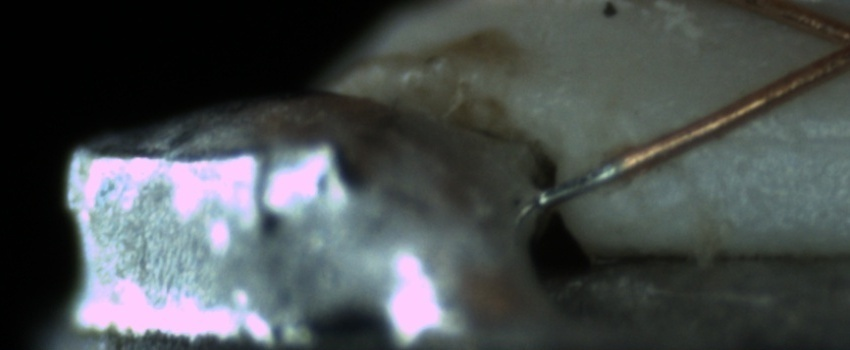CL: (803, 8, 850, 81)
DL: (708, 105, 850, 174)
TS: (539, 158, 627, 209)
